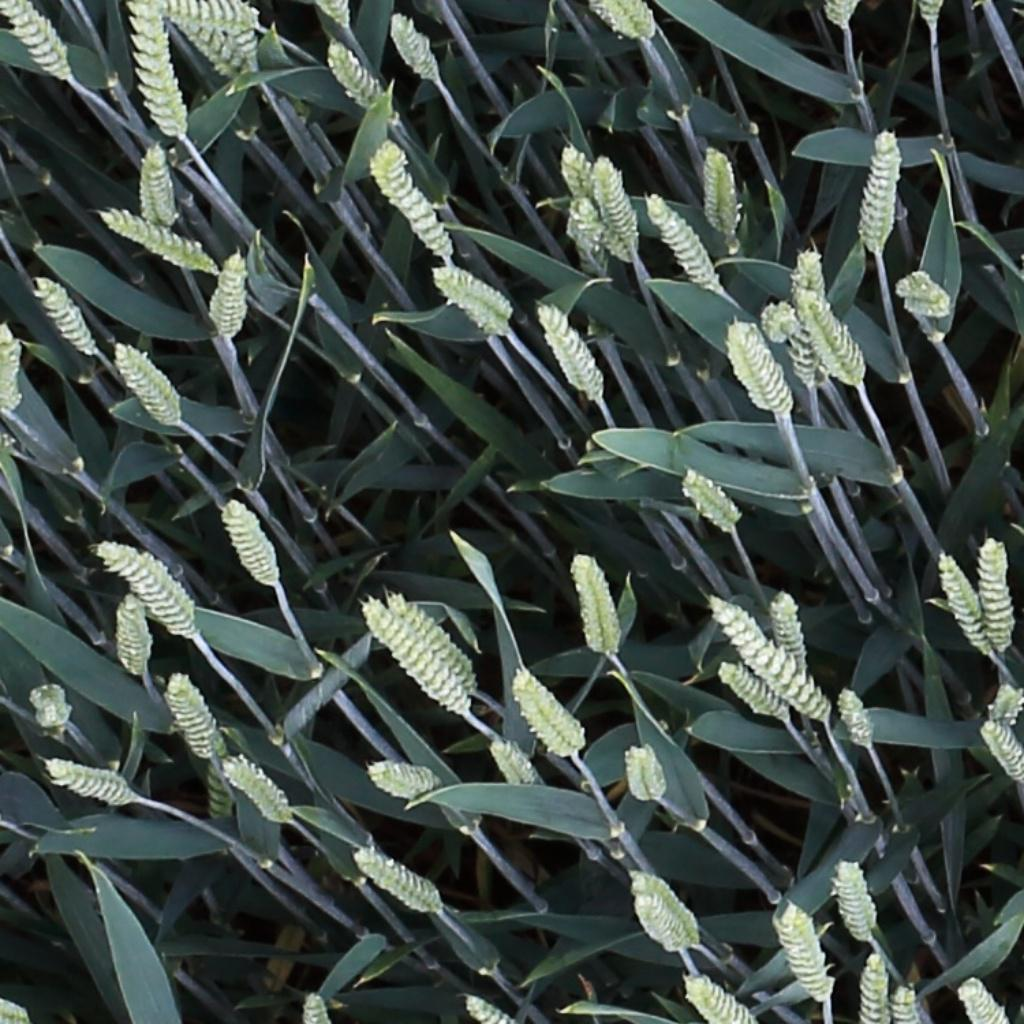0-0: (707, 595, 835, 724), (357, 587, 472, 715), (377, 578, 486, 684), (370, 139, 456, 259), (95, 540, 199, 638), (644, 187, 727, 296), (131, 6, 197, 135), (536, 299, 608, 402), (101, 208, 217, 271), (798, 287, 866, 389), (435, 266, 522, 345), (514, 667, 587, 761), (726, 319, 795, 415), (326, 36, 397, 129), (936, 550, 996, 660), (110, 338, 181, 428), (165, 672, 235, 763), (31, 271, 101, 360), (0, 0, 73, 84), (852, 125, 899, 254), (776, 902, 834, 1006), (787, 249, 828, 394), (357, 851, 443, 916), (177, 16, 267, 77), (223, 496, 279, 592), (38, 749, 133, 805), (593, 151, 643, 252), (573, 551, 619, 660), (117, 591, 167, 691), (634, 877, 696, 953), (198, 247, 247, 342), (386, 9, 445, 87), (227, 756, 295, 823), (577, 0, 677, 45), (559, 196, 612, 276), (370, 749, 446, 803), (681, 468, 744, 533), (836, 856, 880, 947), (722, 662, 786, 722), (124, 0, 259, 28), (686, 976, 761, 1024), (980, 533, 1010, 653), (133, 137, 176, 219), (977, 716, 1024, 791), (622, 736, 672, 804), (774, 587, 811, 673), (838, 682, 880, 756), (488, 737, 542, 794), (561, 135, 602, 208), (707, 140, 737, 237), (0, 318, 29, 413), (895, 268, 949, 319), (860, 947, 891, 1024), (958, 976, 1007, 1024), (989, 675, 1024, 734), (757, 300, 799, 347), (200, 760, 230, 824), (31, 684, 68, 730), (464, 993, 512, 1024), (890, 978, 921, 1024), (301, 983, 330, 1024), (322, 0, 356, 32), (828, 1, 858, 35), (0, 988, 30, 1021), (921, 0, 946, 35)
